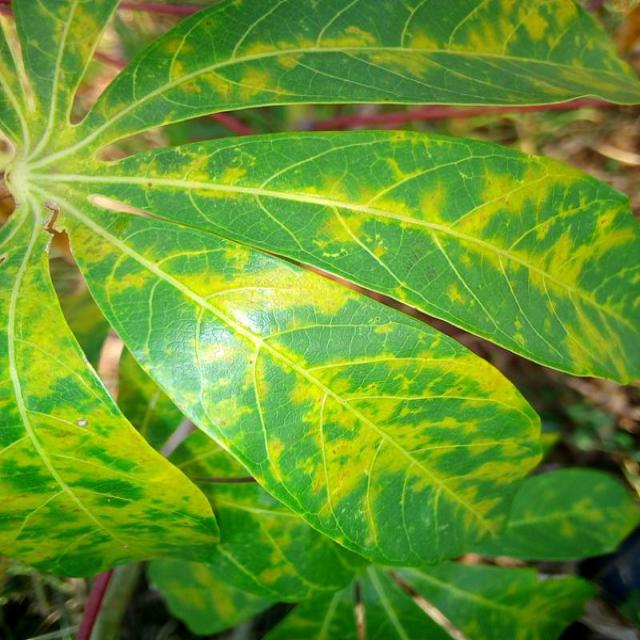cassava leaf: (1, 1, 638, 604), (0, 196, 220, 579)
